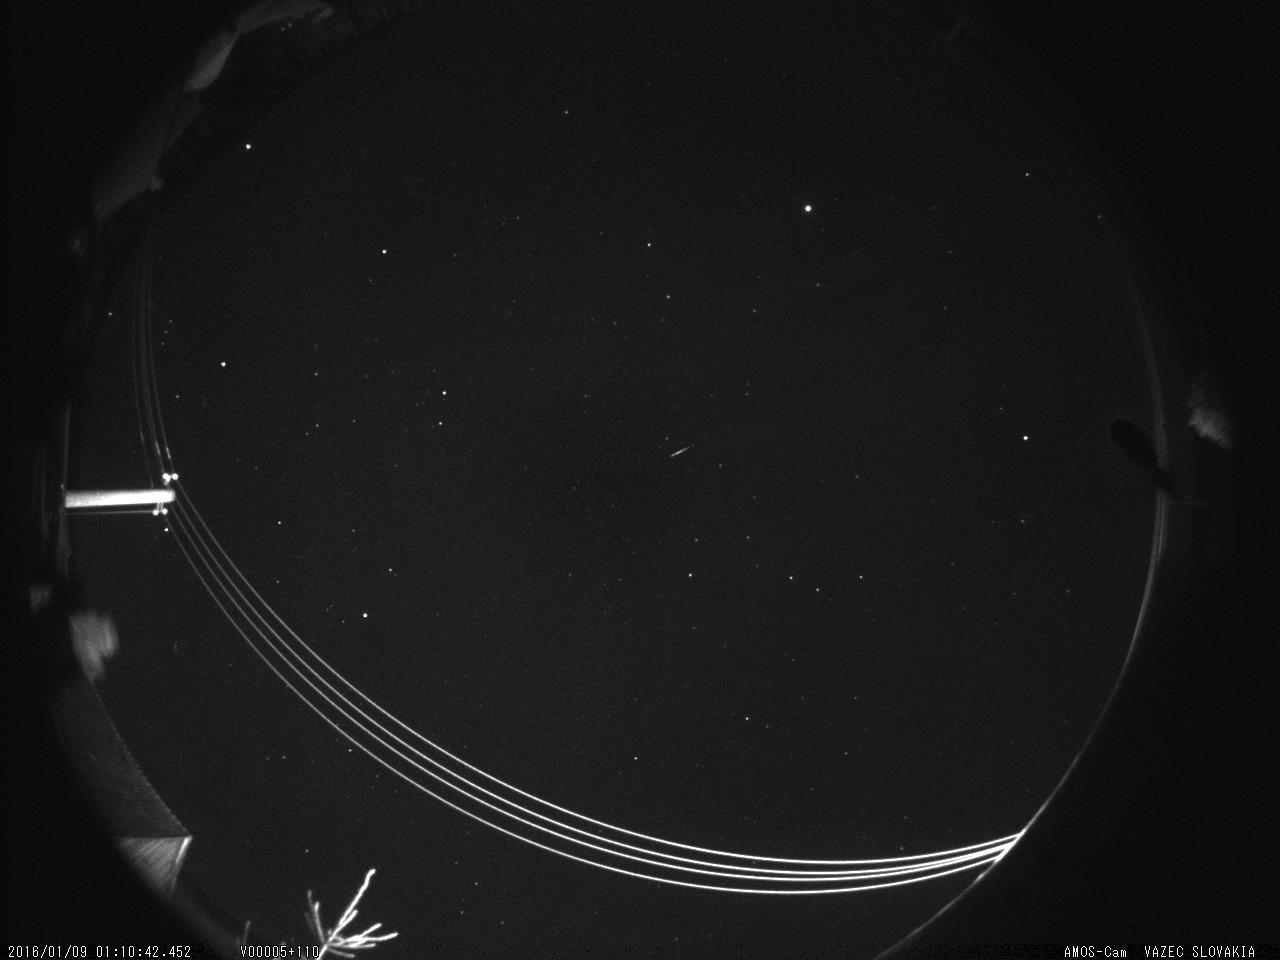Meteor: (664, 436, 704, 466)
